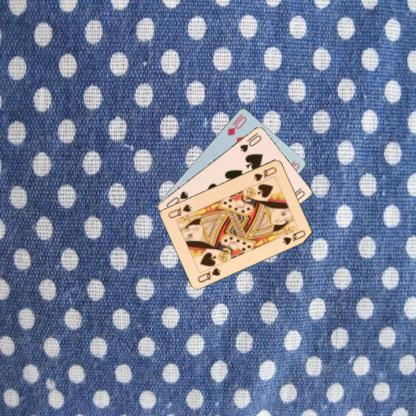10d: (225, 113, 248, 137)
10s: (237, 132, 263, 153)
Qs: (195, 264, 222, 284), (251, 164, 278, 182)
